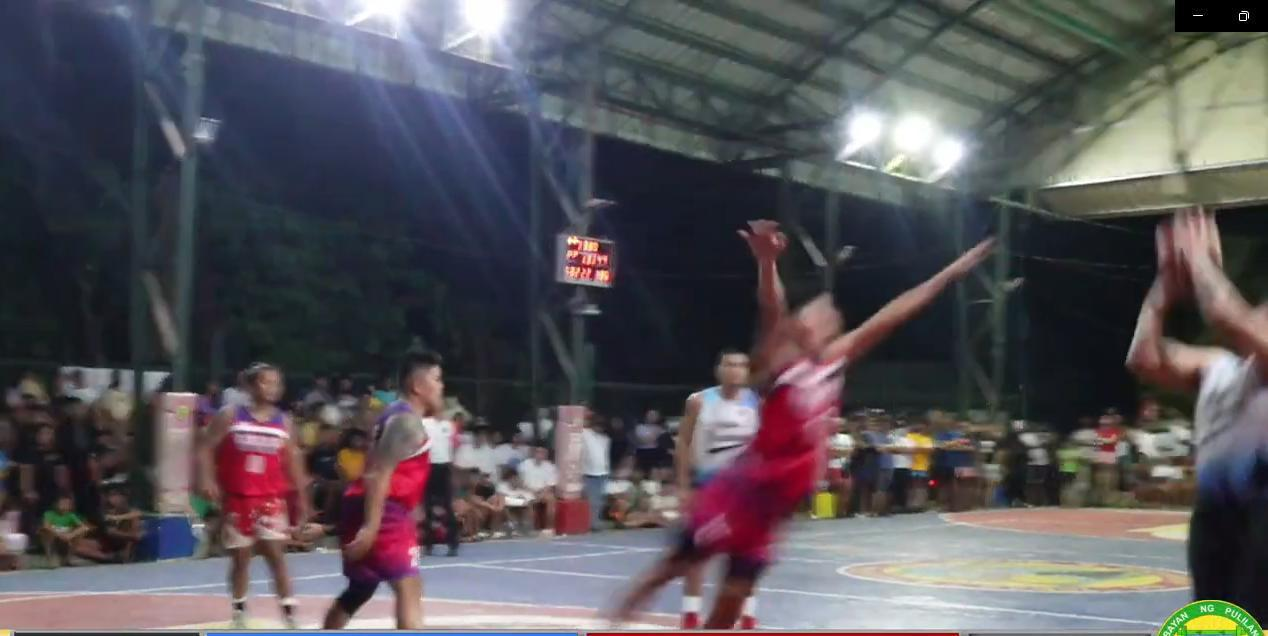ball: (1160, 212, 1222, 292)
human: (603, 193, 995, 636), (1097, 185, 1268, 636), (176, 343, 324, 636), (323, 323, 455, 636), (663, 332, 761, 636)
